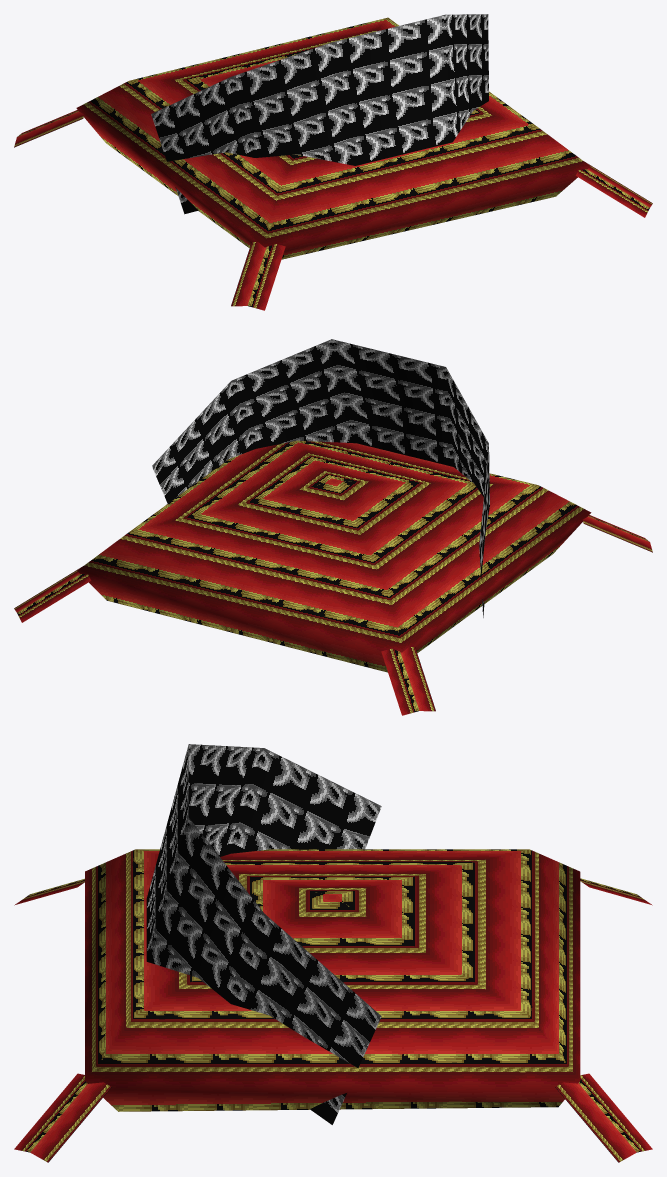
The model's file is 5594uc_ac_hed6.gltf.
3 renders of one model, top to bottom at view 1: azimuth 30°, elevation 25°; view 2: azimuth 150°, elevation 25°; view 3: azimuth 270°, elevation 25°, orthographic. The views are drawn at different scales.
Parts seen in each view (by area): view 1: 5594uc_ac_hed6; view 2: 5594uc_ac_hed6; view 3: 5594uc_ac_hed6.
Part boxes in pixels (<box>): 5594uc_ac_hed6: <box>14,14,652,310</box>; 5594uc_ac_hed6: <box>14,339,652,715</box>; 5594uc_ac_hed6: <box>14,744,652,1162</box>.
Bounding box in the file's own units: 0.998 × 0.4944 × 0.9946.
Materials: 4 (4 with a texture image).
